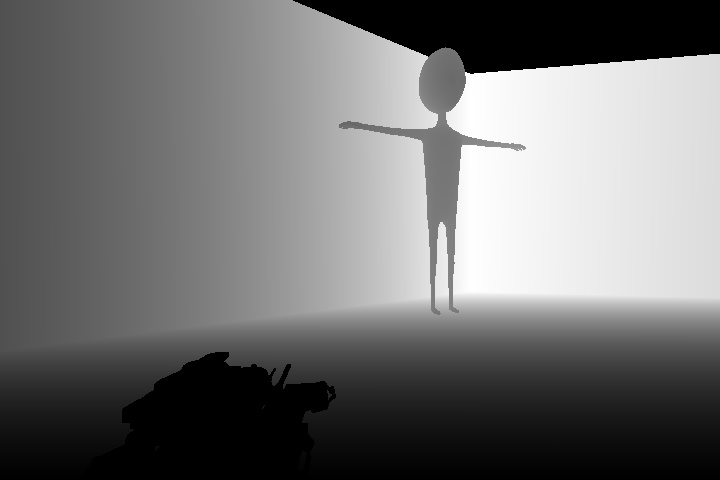alien: (336, 45, 529, 317)
